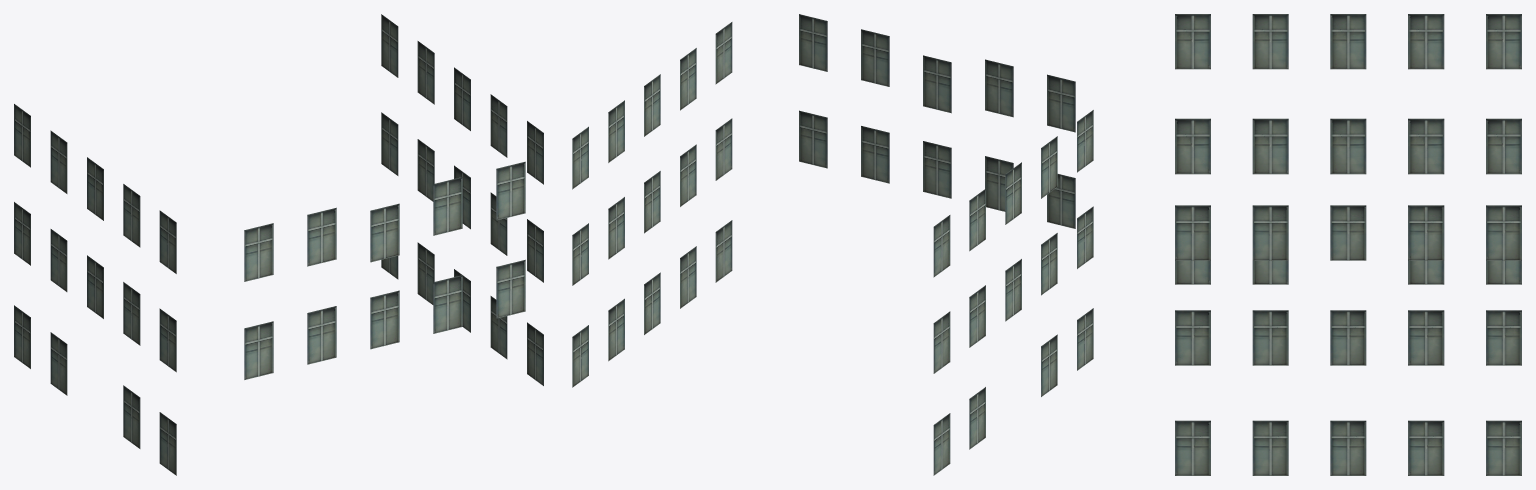
File: windowfix.fbx
3 views of the same model, side by side, from view 1: azimuth 30°, elevation 25°; view 2: azimuth 150°, elevation 25°; view 3: azimuth 270°, elevation 25° (orthographic). The views are drawn at different scales.
Visible parts, largest first — view 1: Cube.005; view 2: Cube.005; view 3: Cube.005.
Boxes of the visible parts, x1,y1,x2,y2 form: Cube.005: [14, 14, 543, 475]; Cube.005: [572, 14, 1093, 475]; Cube.005: [1175, 14, 1521, 475].
Size of the model in its own units: 975 by 643 by 861.
